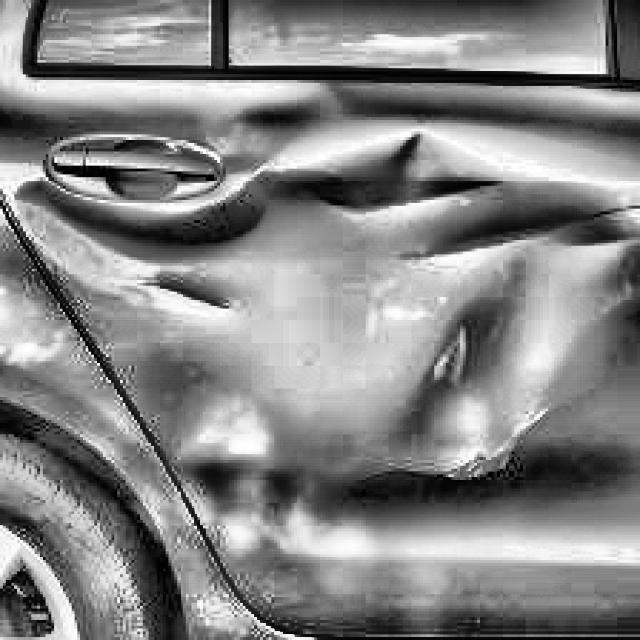door_dent: (22, 125, 629, 483)
